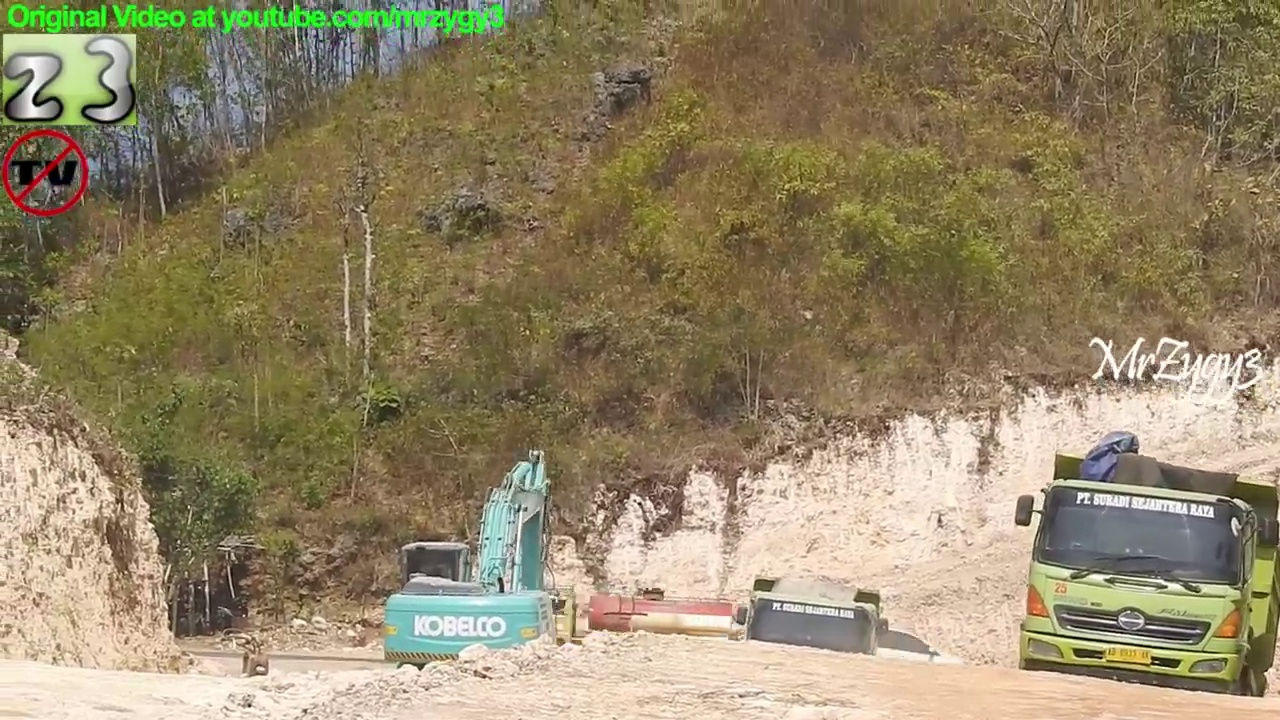excavator: (375, 443, 567, 692)
truck: (1009, 444, 1280, 720), (733, 569, 892, 712), (510, 581, 738, 667)
